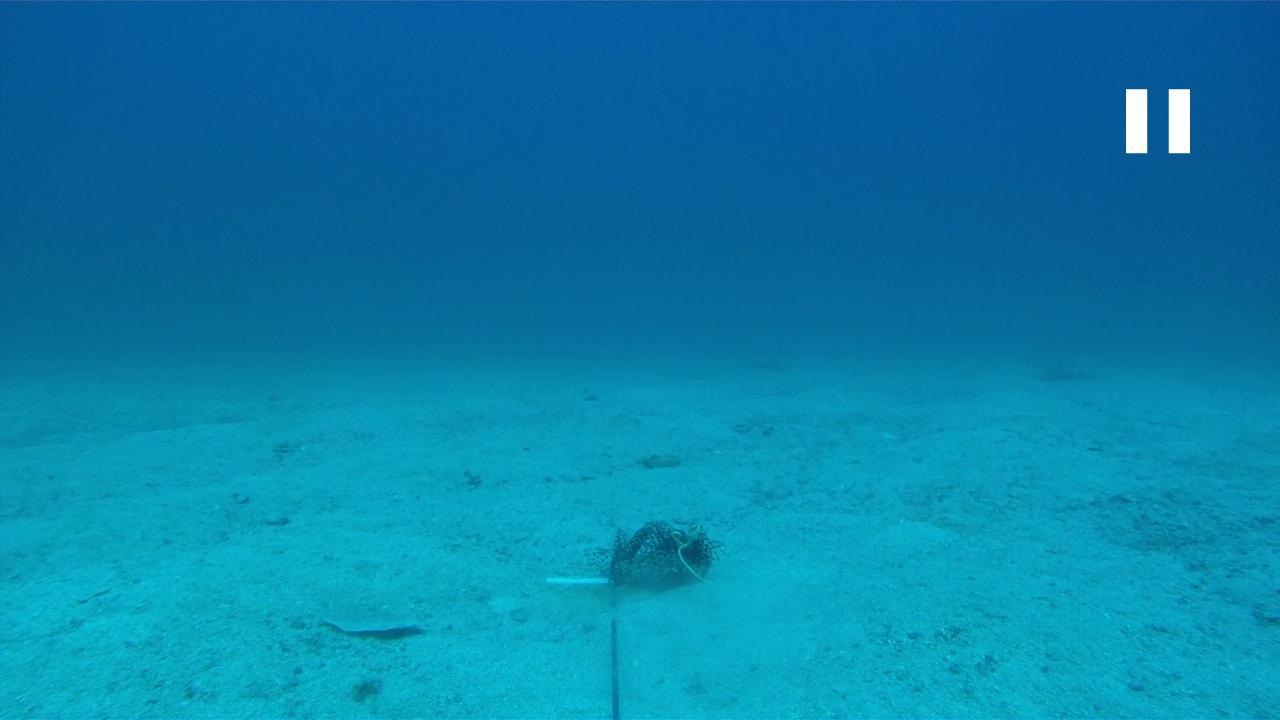bothus: (313, 600, 432, 641)
